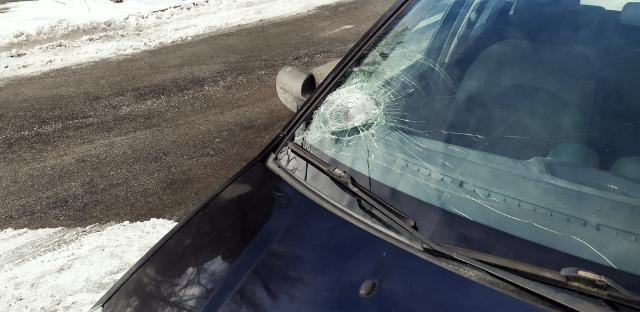glass shatter: (295, 0, 640, 297)
